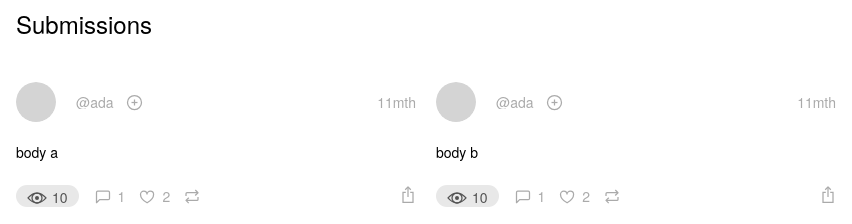
Scenario: SubmissionStream › keeps a love after the request has finished
The width and height of the screenshot is (852, 224).
Click the button named "Love" below "body a": click(148, 196) top-left (133, 186), bottom-right (162, 207)
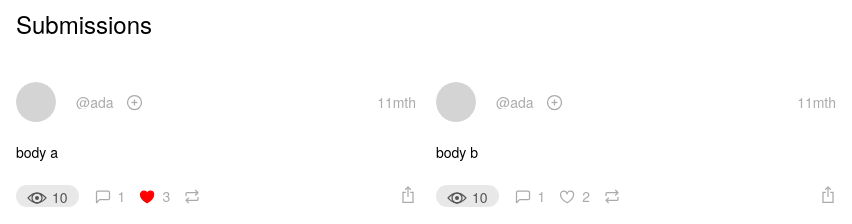
Check: the number of buttons named "Love" is 1, box top-left (553, 186), bottom-right (582, 207)
Check: the button named "Unlove" is pressed, box top-left (133, 186), bottom-right (162, 207)
Check: the element named "Unlove" has attribute data-count="3", box top-left (133, 184), bottom-right (178, 204)
